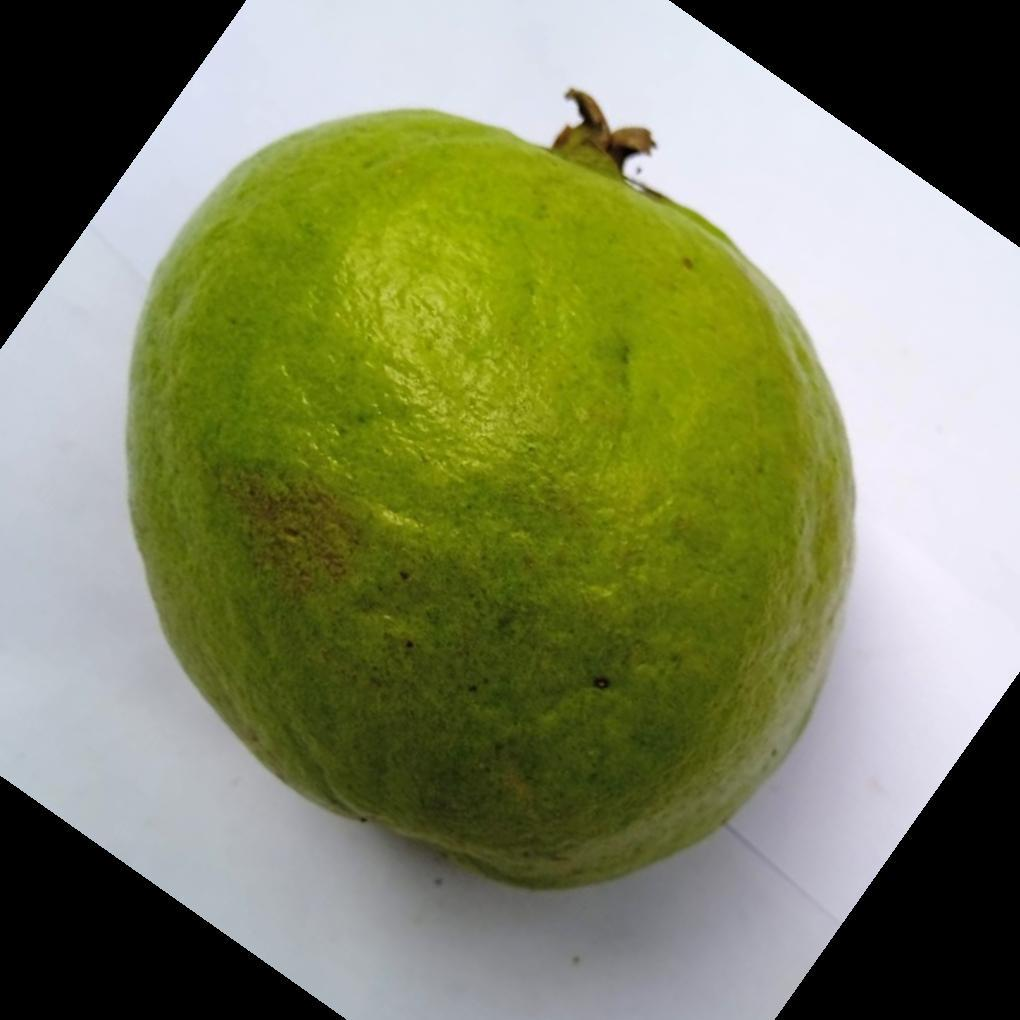FreshGuava: (124, 92, 860, 896)
